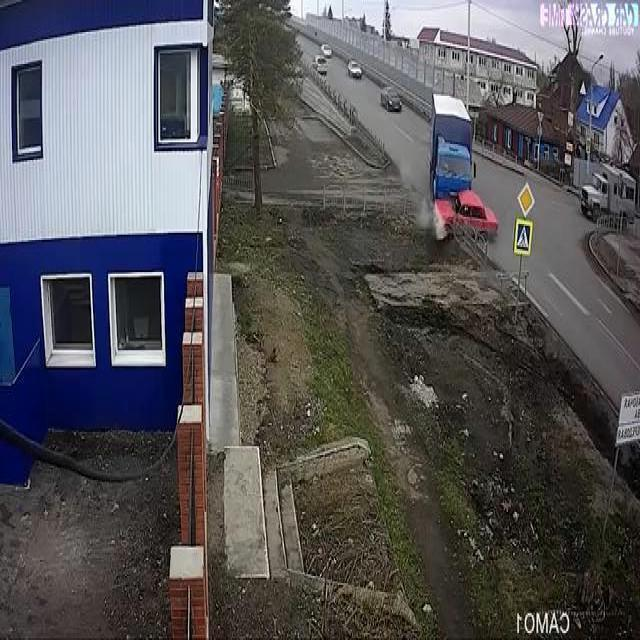accident: (424, 89, 500, 244)
